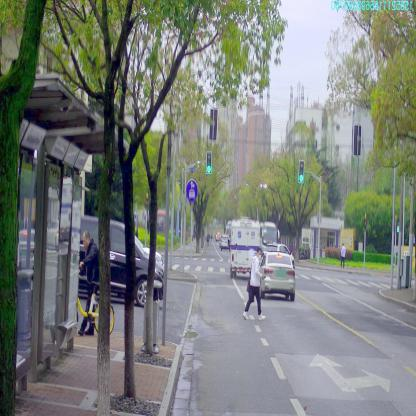traffic-light: (206, 151, 212, 173), (299, 160, 304, 182)
